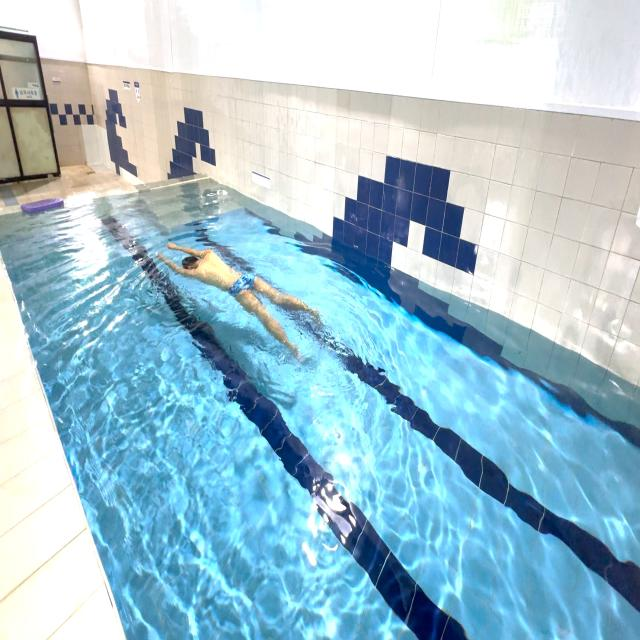Swimming: (146, 218, 329, 376)
